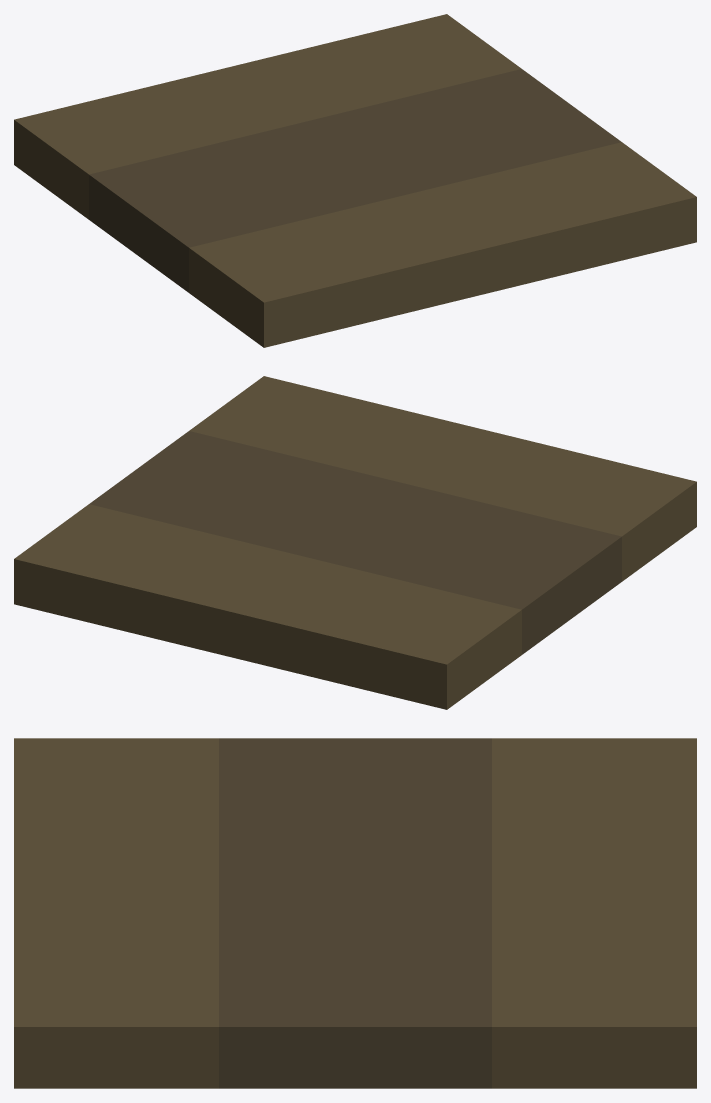
File: scaffold_top.DAE
3 views of the same model, one above another, from view 1: azimuth 30°, elevation 25°; view 2: azimuth 150°, elevation 25°; view 3: azimuth 270°, elevation 25° (orthographic). The views are drawn at different scales.
Parts seen in each view (by area): view 1: scaffold_top; view 2: scaffold_top; view 3: scaffold_top.
Part boxes in pixels (x1,y1,x2,y2): scaffold_top: (14, 14, 696, 347); scaffold_top: (14, 376, 696, 709); scaffold_top: (14, 738, 696, 1088).
Size of the model in its own units: 10 by 10 by 1.
1 material, 1 textured.
